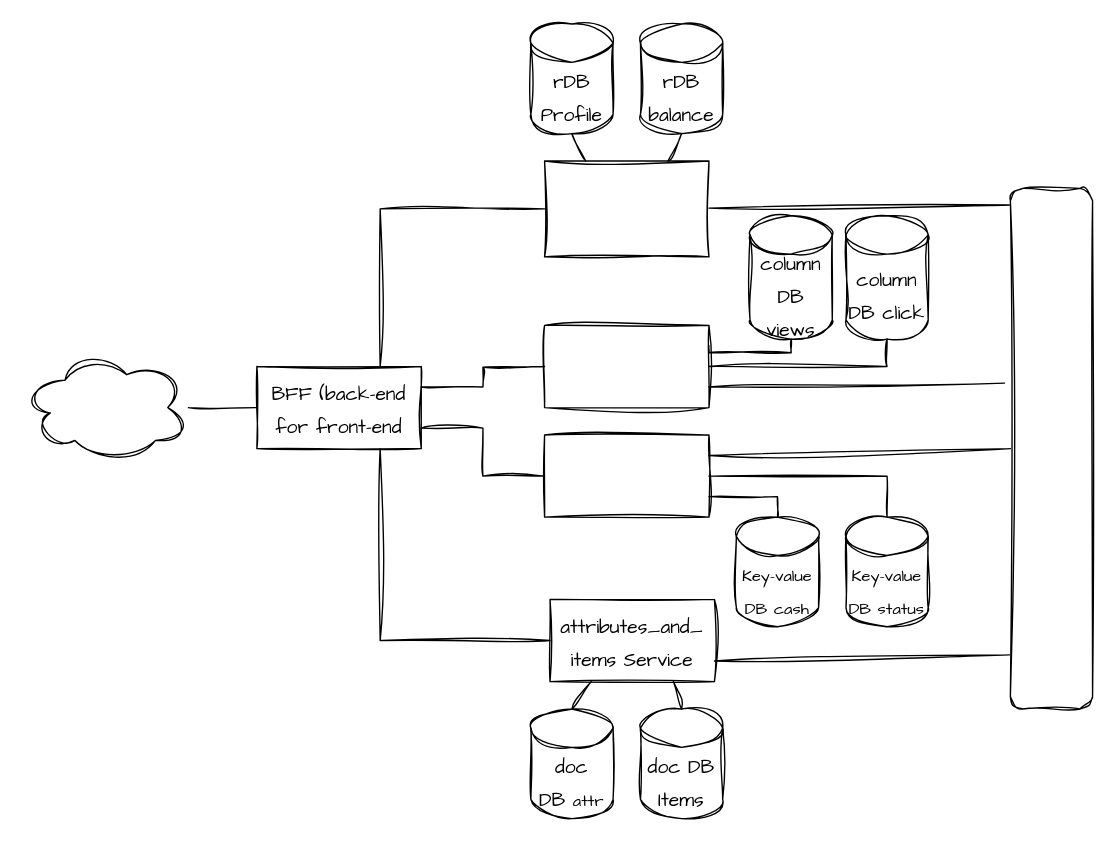
Image size: 1117x843. Some labels were removed from this diagram. Each missing label, with the box of its shape:
cash_and_status Service: (543, 434, 709, 517)
click_and_views Service: (543, 324, 709, 408)
Game Services: (23, 351, 188, 462)
Message broker: (1009, 187, 1093, 709)
User Service: (543, 160, 709, 257)
